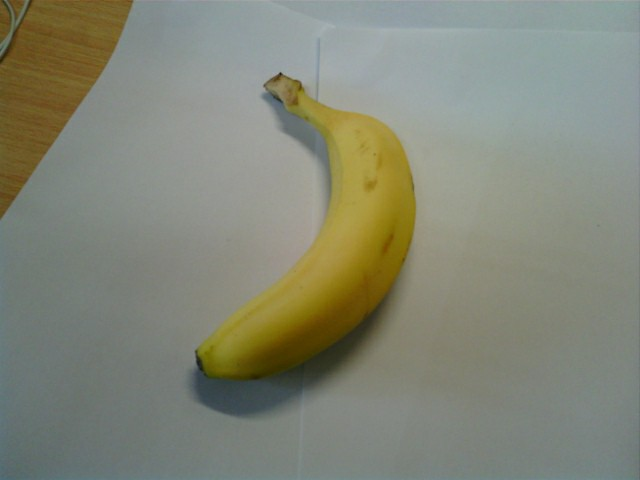fresh_banana: (195, 87, 419, 379)
